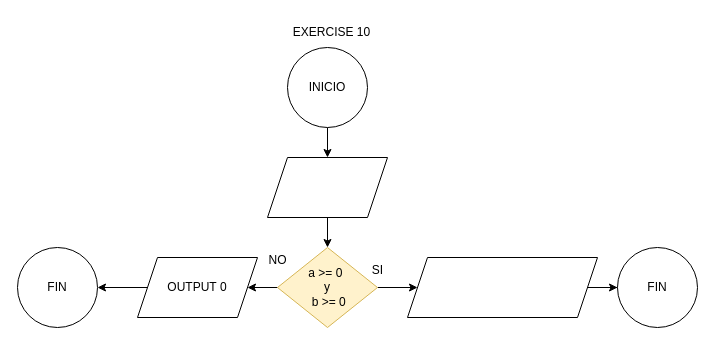
Some shapes in this 715 by 345 pixel diagram are drawn without their labels. Here are the shapes that lost their labels. From the top down, the centre of each, then its label:
At pixel 327 187: "INPUT a, b".
At pixel 502 287: "OUTPUT (a+b) * (sum).size()".
